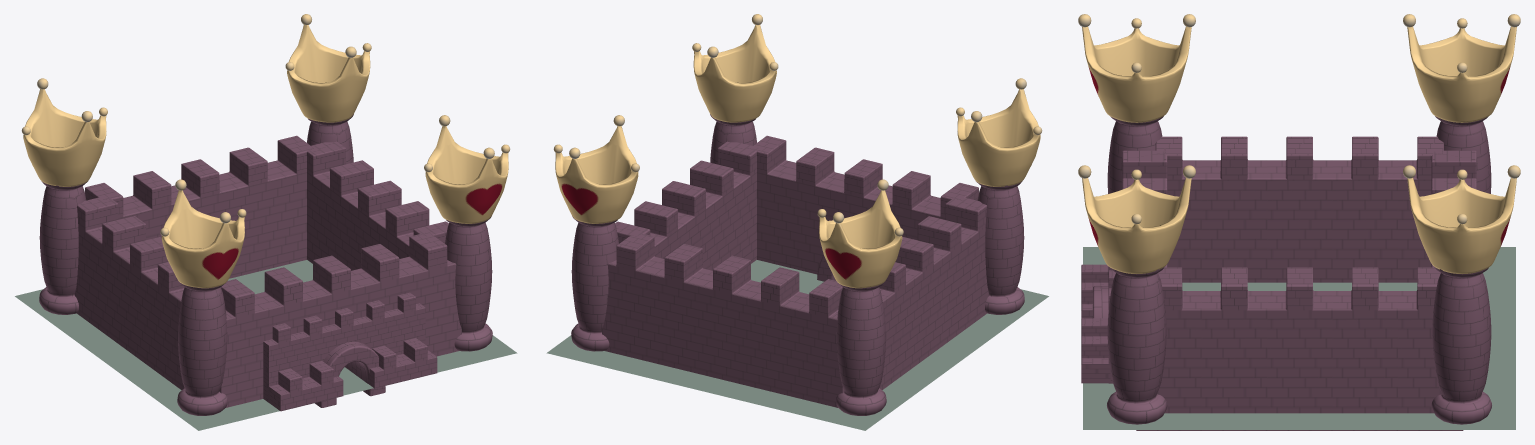
File: SecondPhase.fbx
The picture shows the model from 3 angles, left to right: view 1: azimuth 30°, elevation 25°; view 2: azimuth 150°, elevation 25°; view 3: azimuth 270°, elevation 25°; orthographic projection. The views are drawn at different scales.
Visible parts, largest first — view 1: tower, Gate, Side, Back, Base; view 2: tower, Back, Side, Gate, Base; view 3: Side, tower, Base, Gate, Back.
Boxes of the visible parts, box(x1,y1,x2,y2) form: tower: box(21, 14, 510, 415); Gate: box(219, 232, 461, 411); Side: box(74, 141, 448, 390); Back: box(85, 135, 313, 278); Base: box(15, 260, 517, 430); tower: box(553, 14, 1042, 415); Back: box(602, 234, 844, 407); Side: box(615, 141, 989, 390); Gate: box(750, 135, 978, 281); Base: box(546, 260, 1048, 430); Side: box(1136, 136, 1463, 430); tower: box(1078, 14, 1520, 424); Base: box(1083, 247, 1515, 429); Gate: box(1081, 150, 1167, 383); Back: box(1431, 150, 1476, 267).
Size of the model in its own units: 3710 by 2299 by 3470.
1 material, 1 textured.
